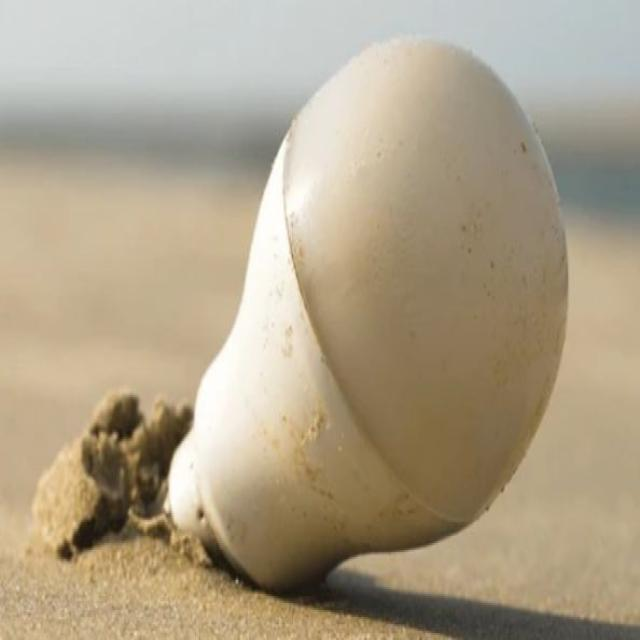electronic: (165, 32, 569, 594)
